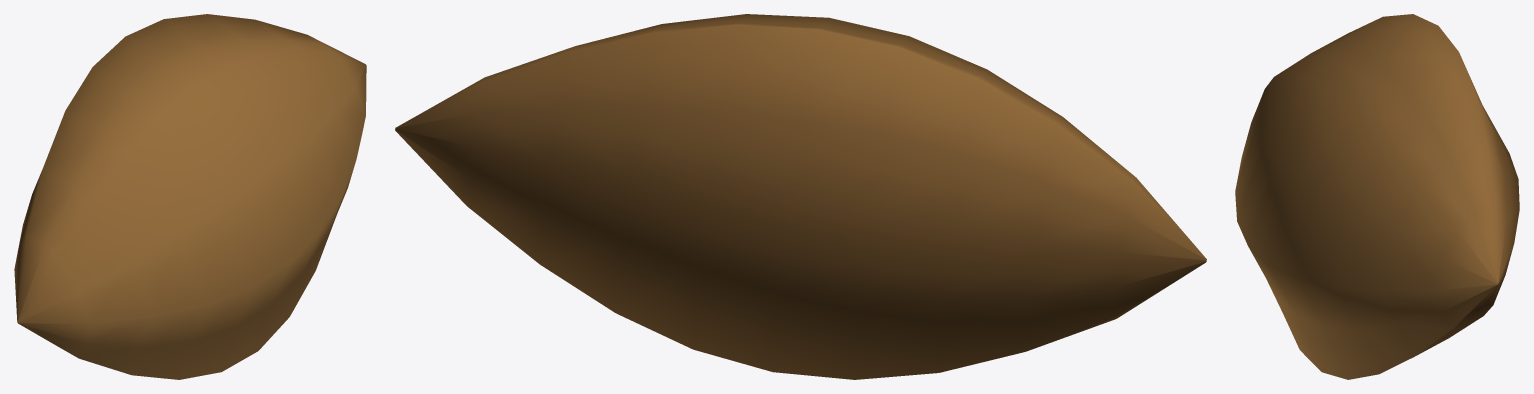
File: NP_Hibiscus_Seed.fbx
The picture shows the model from 3 angles, left to right: view 1: azimuth 30°, elevation 25°; view 2: azimuth 150°, elevation 25°; view 3: azimuth 270°, elevation 25°; orthographic projection. The views are drawn at different scales.
Visible parts, largest first — view 1: NP_Hibiscus_Seed; view 2: NP_Hibiscus_Seed; view 3: NP_Hibiscus_Seed.
Boxes of the visible parts, x1,y1,x2,y2 form: NP_Hibiscus_Seed: [14, 14, 366, 379]; NP_Hibiscus_Seed: [395, 14, 1206, 379]; NP_Hibiscus_Seed: [1235, 14, 1519, 379].
Size of the model in its own units: 6.87 by 4.19 by 3.5.
